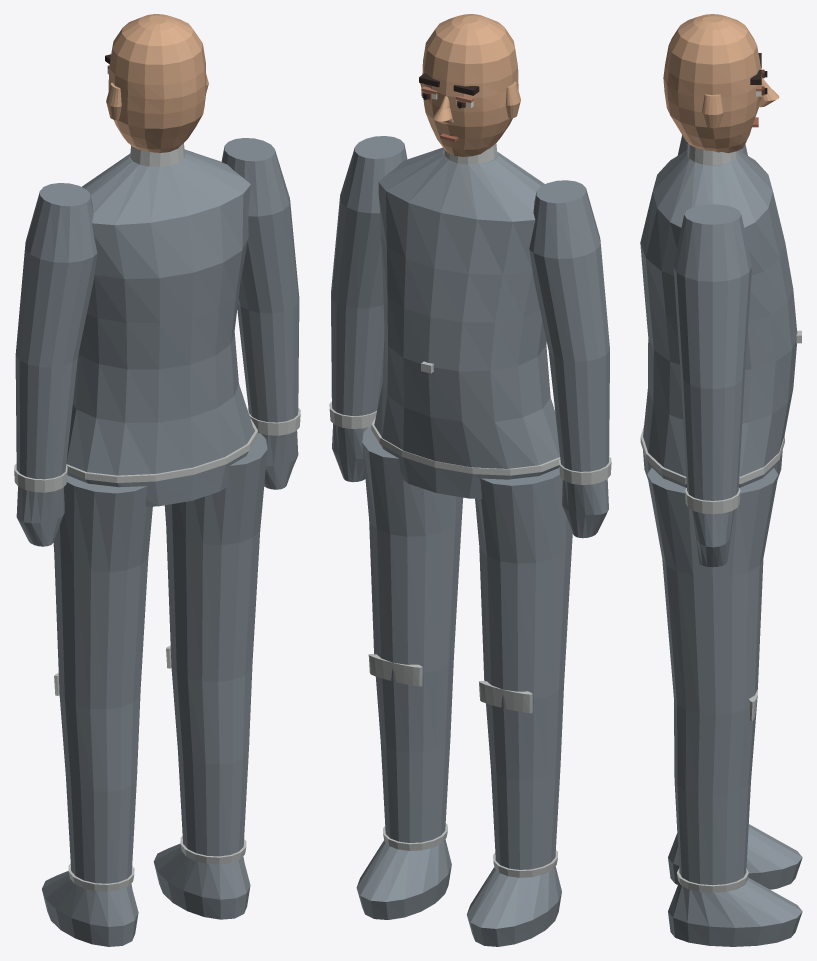
3 views of the same model, side by side, from view 1: azimuth 30°, elevation 25°; view 2: azimuth 150°, elevation 25°; view 3: azimuth 270°, elevation 25° (orthographic).
Parts seen in each view (by area): view 1: 衣身腹段替换槽 · adultB, 孕期腹部造型替换件 · early, 精细成年头部母版; view 2: 衣身腹段替换槽 · adultB, 孕期腹部造型替换件 · early, 精细成年头部母版; view 3: 衣身腹段替换槽 · adultB, 孕期腹部造型替换件 · early, 精细成年头部母版.
Boxes of the visible parts, bbox=[...] form: 衣身腹段替换槽 · adultB: bbox=[14, 138, 300, 946]; 孕期腹部造型替换件 · early: bbox=[66, 238, 257, 482]; 精细成年头部母版: bbox=[105, 14, 208, 152]; 衣身腹段替换槽 · adultB: bbox=[329, 136, 611, 946]; 孕期腹部造型替换件 · early: bbox=[371, 234, 560, 475]; 精细成年头部母版: bbox=[419, 14, 520, 156]; 衣身腹段替换槽 · adultB: bbox=[640, 135, 802, 946]; 孕期腹部造型替换件 · early: bbox=[640, 243, 801, 484]; 精细成年头部母版: bbox=[663, 14, 779, 153].
Bounding box in the file's own units: 0.5543 × 1.7 × 0.2823.
Materials: 9 (9 with a texture image).
